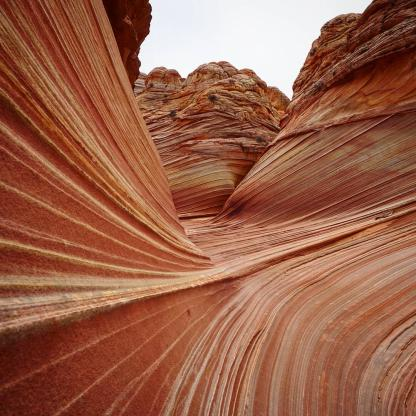Sedimentary_Sandstone: (300, 4, 416, 94), (151, 67, 290, 141), (115, 0, 156, 88)
